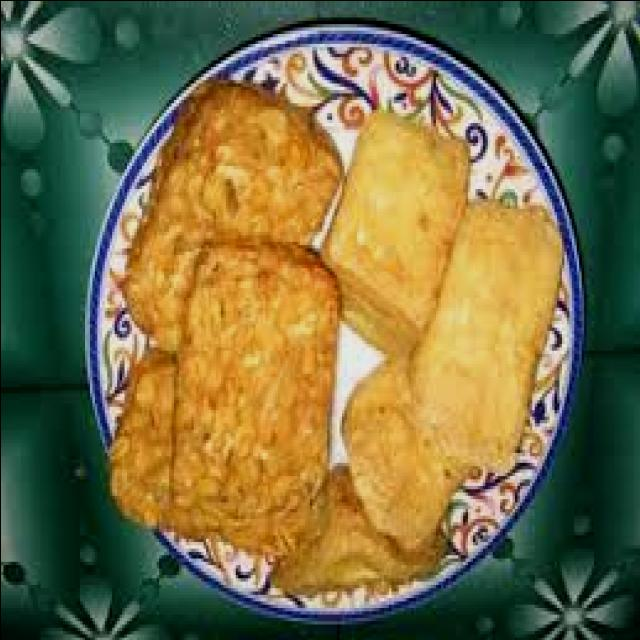tempe goreng: (149, 244, 347, 546), (408, 198, 563, 468), (319, 106, 472, 353)
